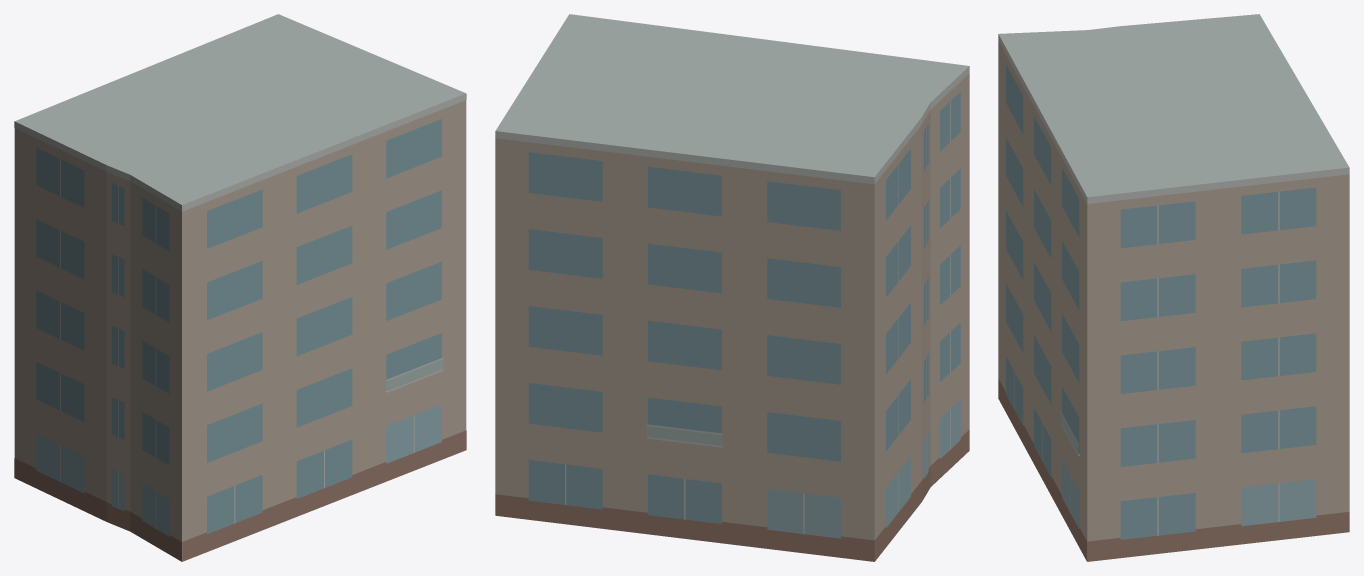
File: survey-upis-32991310.glb
3 renders of one model, left to right at view 1: azimuth 30°, elevation 25°; view 2: azimuth 150°, elevation 25°; view 3: azimuth 270°, elevation 25°, orthographic. The views are drawn at different scales.
Parts seen in each view (by area): view 1: survey-upis-32991310.tmp; view 2: survey-upis-32991310.tmp; view 3: survey-upis-32991310.tmp.
Boxes of the visible parts, left/top/right/bottom form: survey-upis-32991310.tmp: left=14, top=14, right=466, bottom=561; survey-upis-32991310.tmp: left=495, top=14, right=969, bottom=561; survey-upis-32991310.tmp: left=998, top=14, right=1349, bottom=561.
Size of the model in its own units: 14.24 by 13.2 by 11.53.
